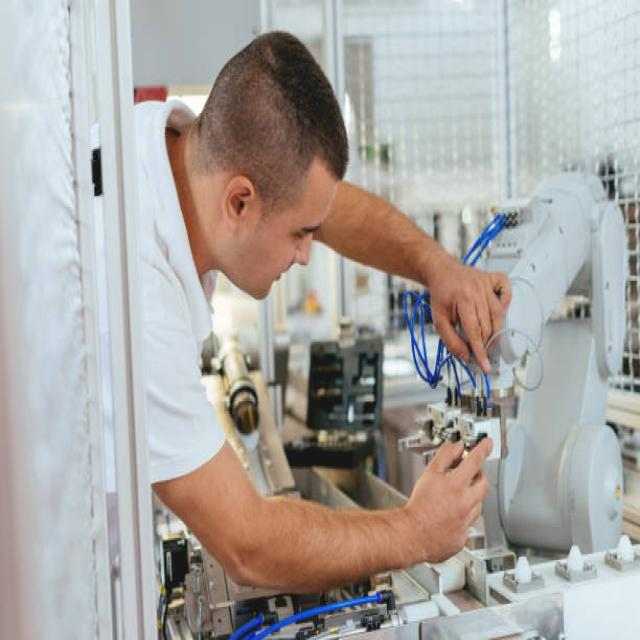Robotic-arm: (448, 167, 640, 559)
